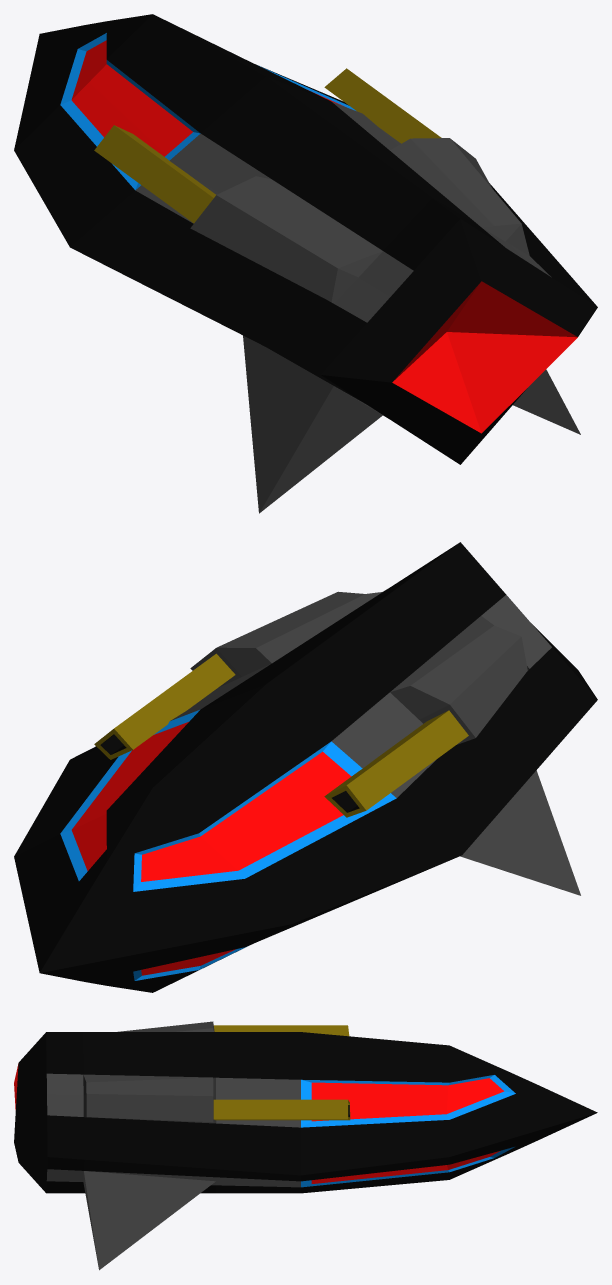
File: Lvl1Enemy.fbx
3 views of the same model, one above another, from view 1: azimuth 30°, elevation 25°; view 2: azimuth 150°, elevation 25°; view 3: azimuth 270°, elevation 25° (orthographic). The views are drawn at different scales.
Visible parts, largest first — view 1: Lvl1Enemy; view 2: Lvl1Enemy; view 3: Lvl1Enemy.
Boxes of the visible parts, <box> form: Lvl1Enemy: <box>14,14,597,513</box>; Lvl1Enemy: <box>14,542,597,992</box>; Lvl1Enemy: <box>14,1021,597,1270</box>.
Bounding box in the file's own units: 200 × 139 × 393.
